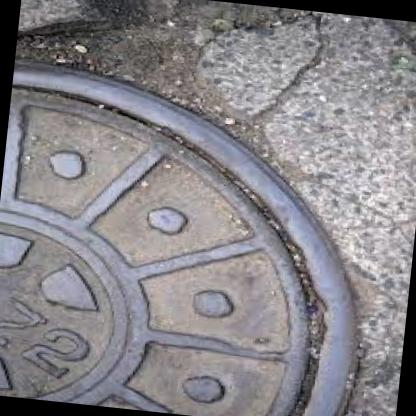manholes: (0, 44, 397, 416)
